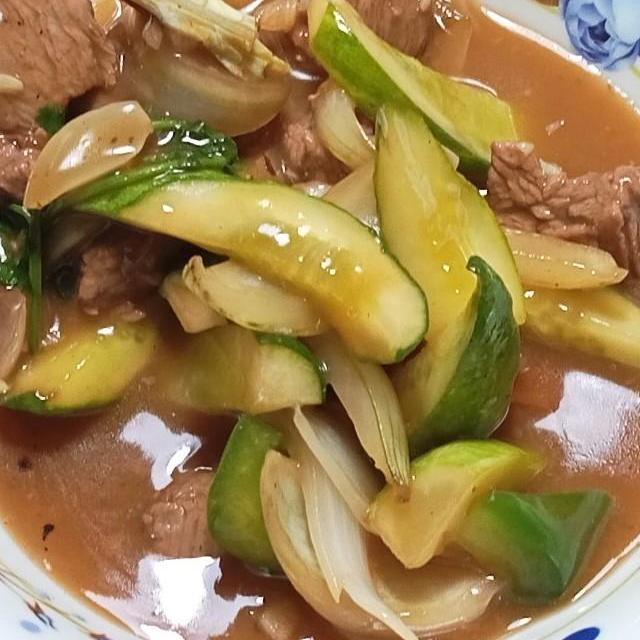thit bo: (0, 121, 185, 335), (240, 0, 440, 186), (471, 137, 640, 296), (0, 0, 126, 155), (134, 460, 241, 587), (0, 128, 53, 340)
